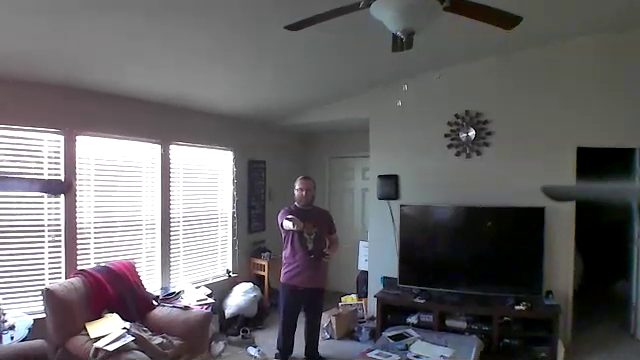land: (281, 213, 303, 236)
